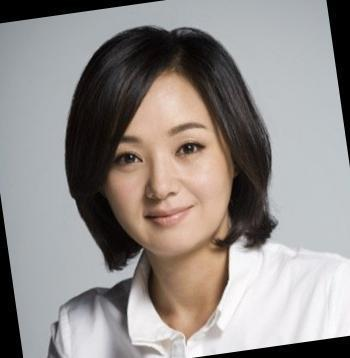Sober: (105, 86, 221, 248)
